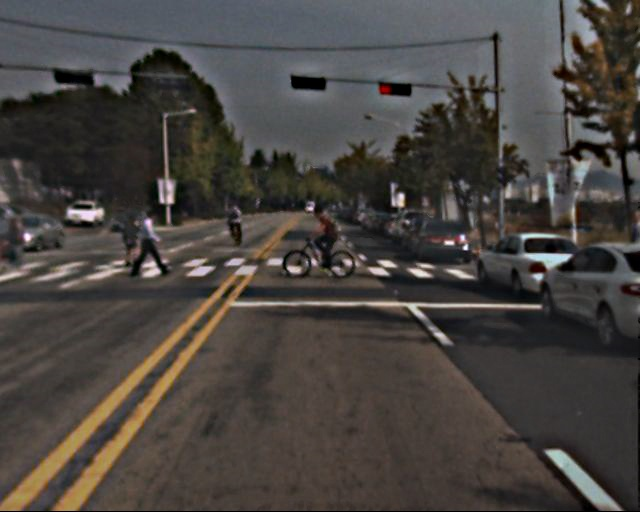person: (315, 207, 348, 274), (8, 210, 46, 266), (138, 208, 168, 277), (120, 213, 145, 265), (228, 207, 246, 249)
